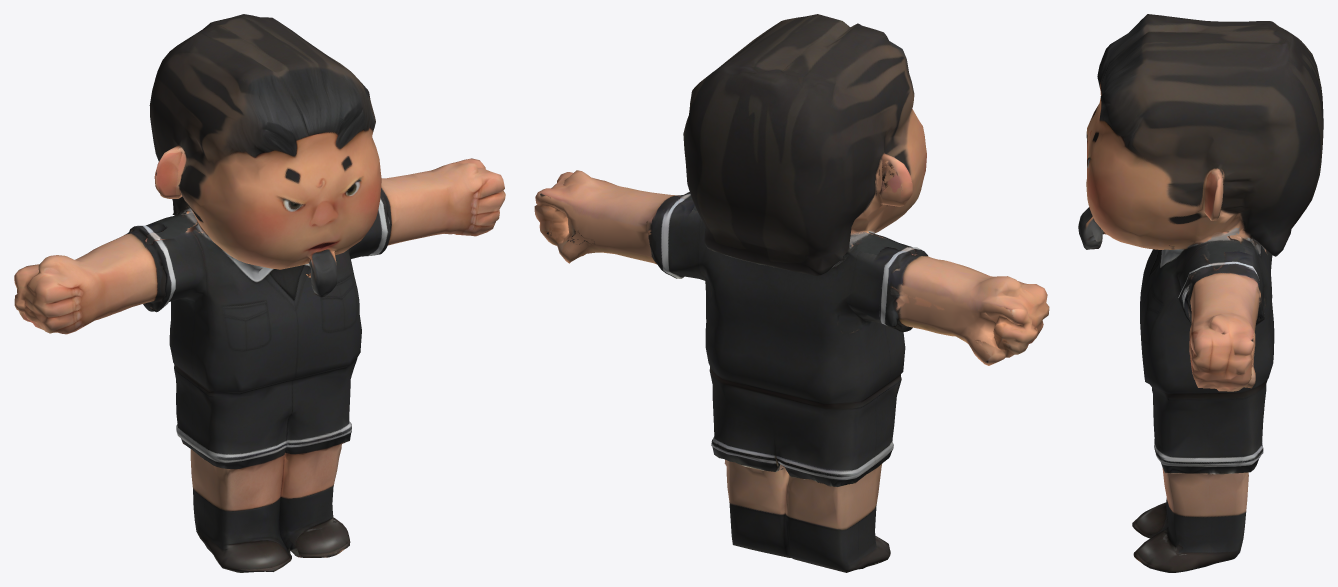
Rendered from referee.glb.
The picture shows the model from 3 angles, left to right: view 1: azimuth 30°, elevation 25°; view 2: azimuth 150°, elevation 25°; view 3: azimuth 270°, elevation 25°; orthographic projection. The views are drawn at different scales.
Bounding box in the file's own units: 64487 × 64558 × 28231.
1 material, 1 textured.
